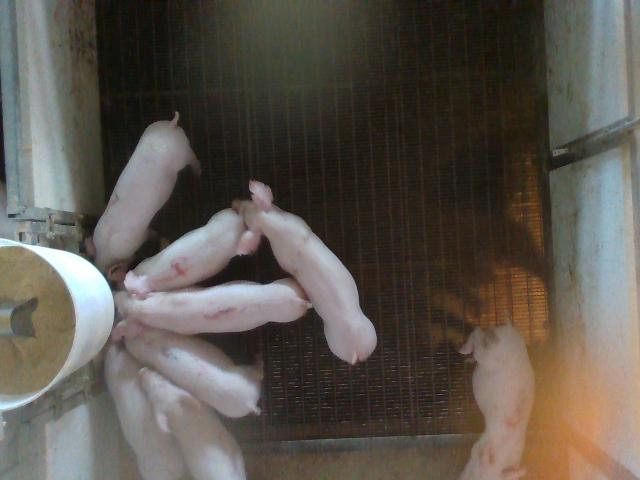pig-1: (112, 271, 311, 339)
pig-3: (460, 322, 535, 478)
pig-4: (135, 209, 246, 291)
